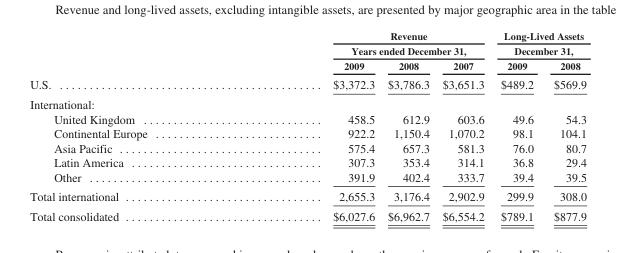table: (29, 29, 586, 222)
table column: (29, 29, 239, 222), (239, 29, 380, 222), (435, 29, 491, 222), (380, 29, 435, 222), (491, 29, 543, 222), (543, 29, 586, 222)
table column header: (29, 29, 586, 74)
table projected row header: (29, 94, 586, 111)
table row: (29, 29, 586, 57), (29, 74, 586, 94), (29, 186, 586, 205), (29, 57, 586, 74), (29, 94, 586, 111), (29, 169, 586, 186), (29, 205, 586, 222), (29, 125, 586, 140), (29, 154, 586, 169), (29, 111, 586, 125), (29, 140, 586, 154)
table spanning cell: (239, 29, 491, 57), (491, 29, 586, 57)
